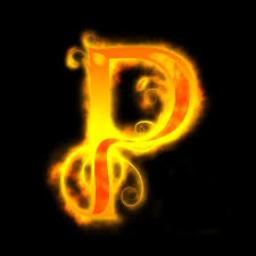p: (51, 30, 209, 228)
